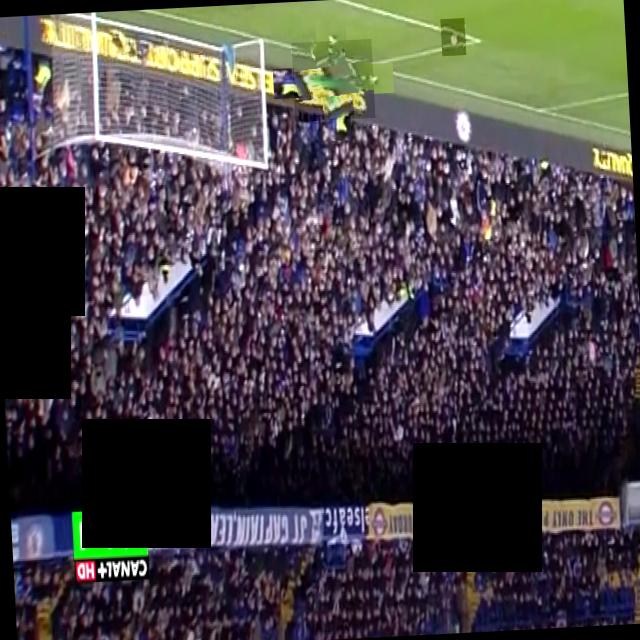ball: (440, 17, 466, 55)
soccer-player: (290, 38, 374, 121)
